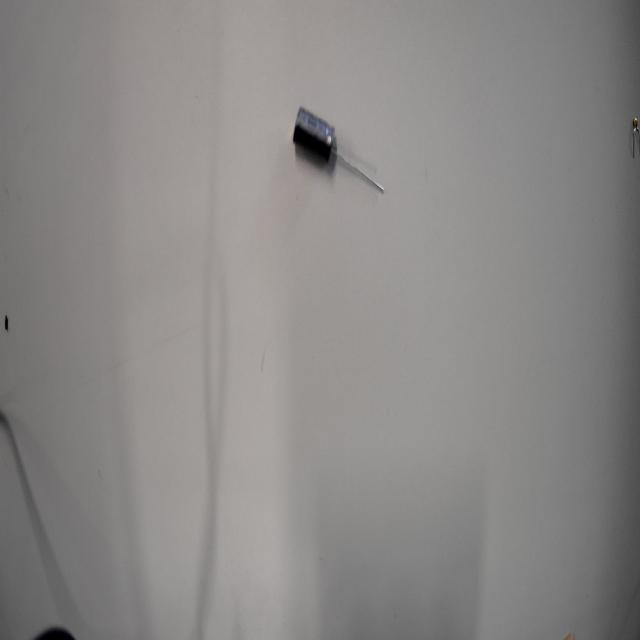capacitor_L: (270, 68, 350, 190)
